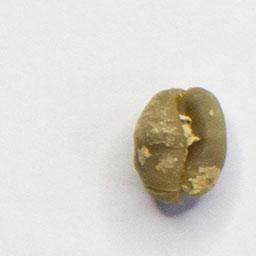peaberry: (132, 85, 229, 211)
